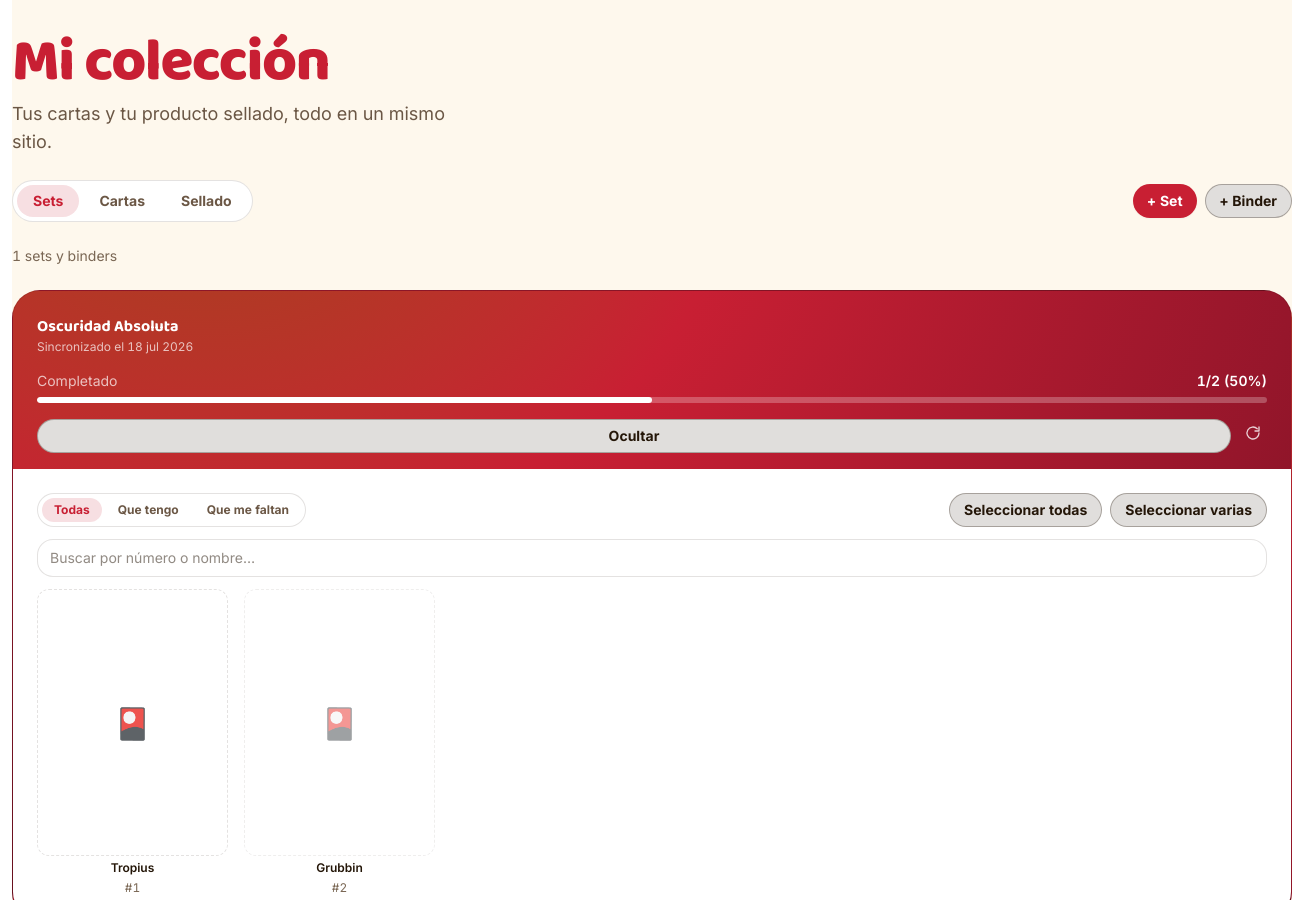
Test: ColeccionScreen › en Sets, el filtro Que tengo/Que me faltan esconde las que no tocan
This screenshot has width=1304, height=900.
Click the button "Sets" at (48, 201), box [17, 185, 79, 217]
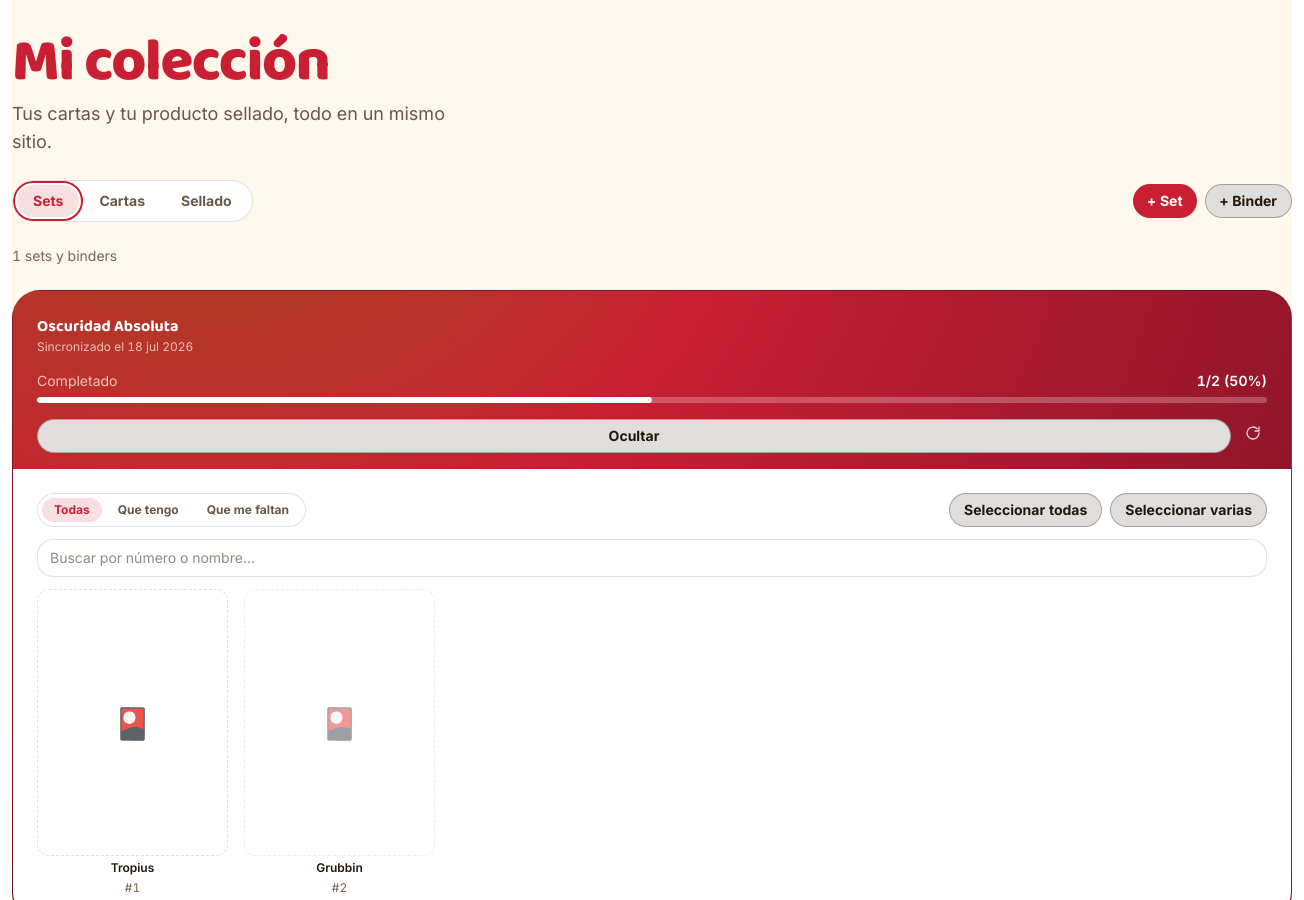
Expected: the text "Tropius" is shown, [111, 860, 154, 875]
Expected: the text "Grubbin" is shown, [316, 860, 363, 875]
Click the button "Que me faltan" at (248, 510), box [195, 498, 301, 522]
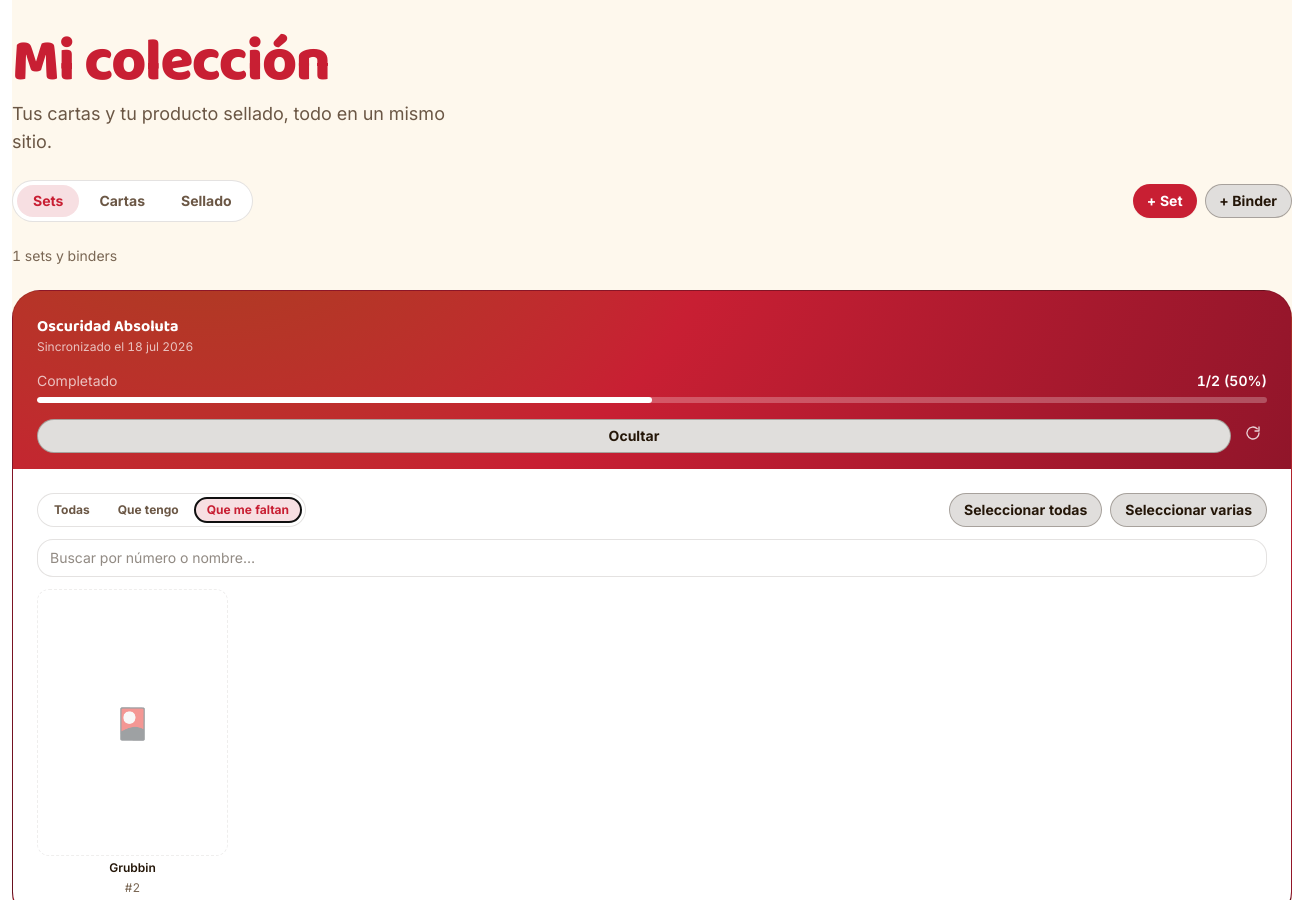
Expected: the text "Grubbin" is shown, [109, 860, 156, 875]
Now the text "Tropius" is gone
Click the button "Que tengo" at (148, 510), box [106, 498, 191, 522]
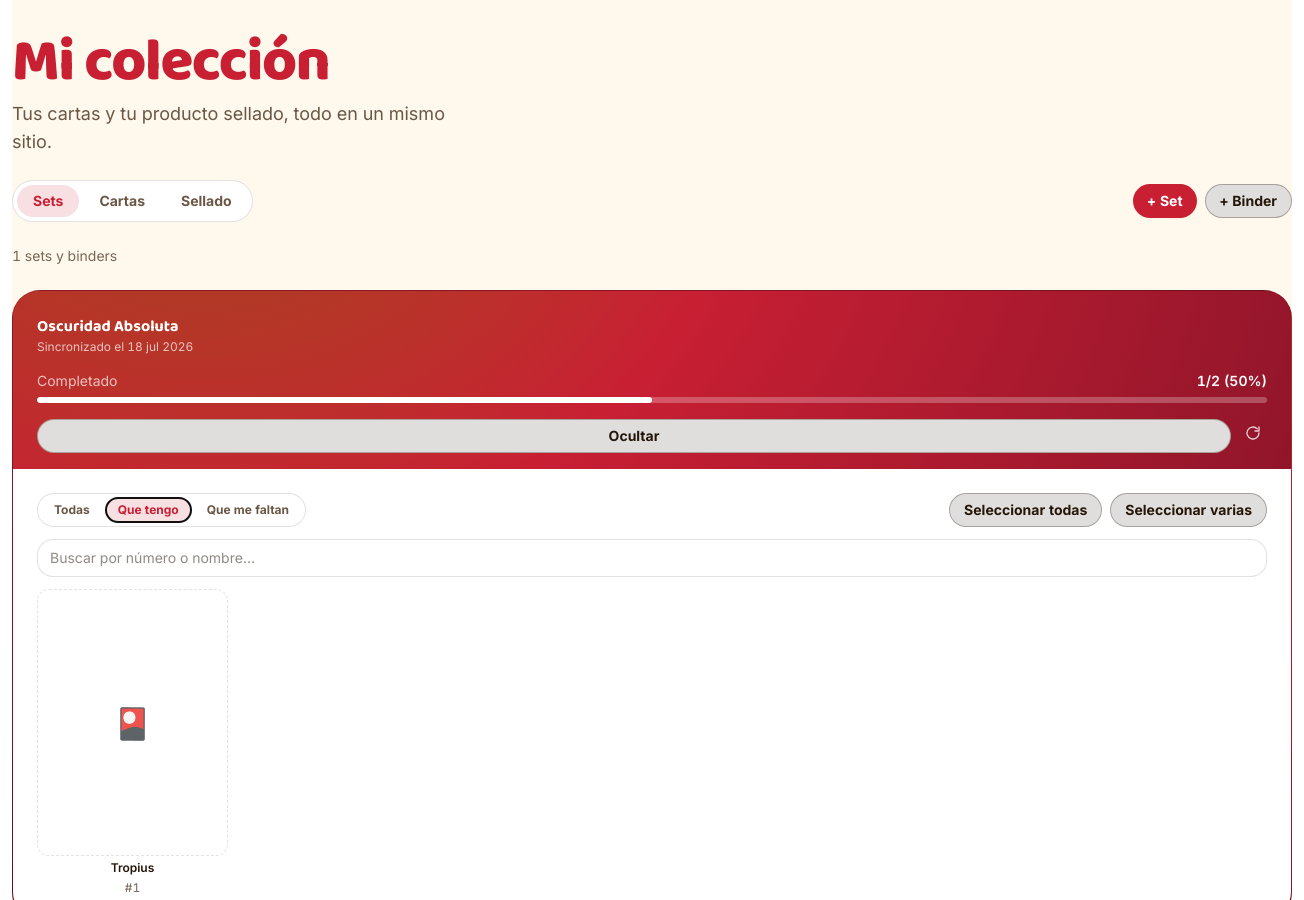
Now the text "Tropius" is shown, box [111, 860, 154, 875]
Now the text "Grubbin" is gone
